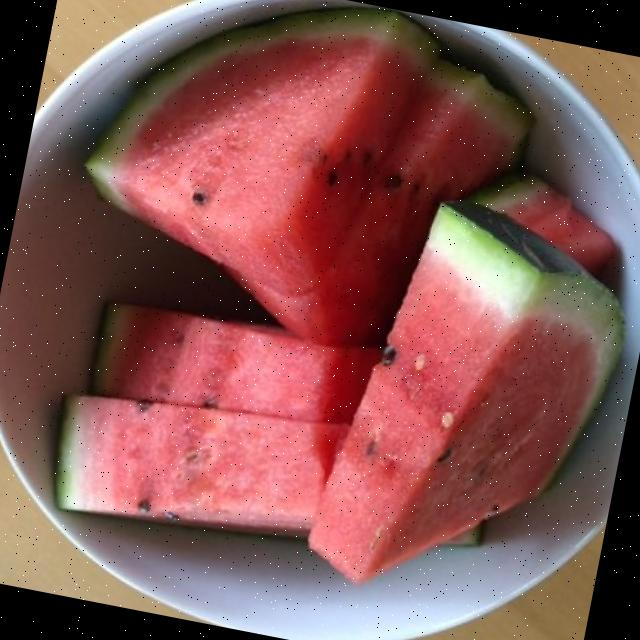watermelon-fresh: (50, 19, 615, 569)
